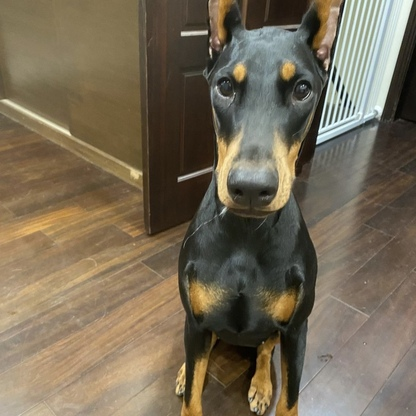doberman: (174, 7, 345, 415)
